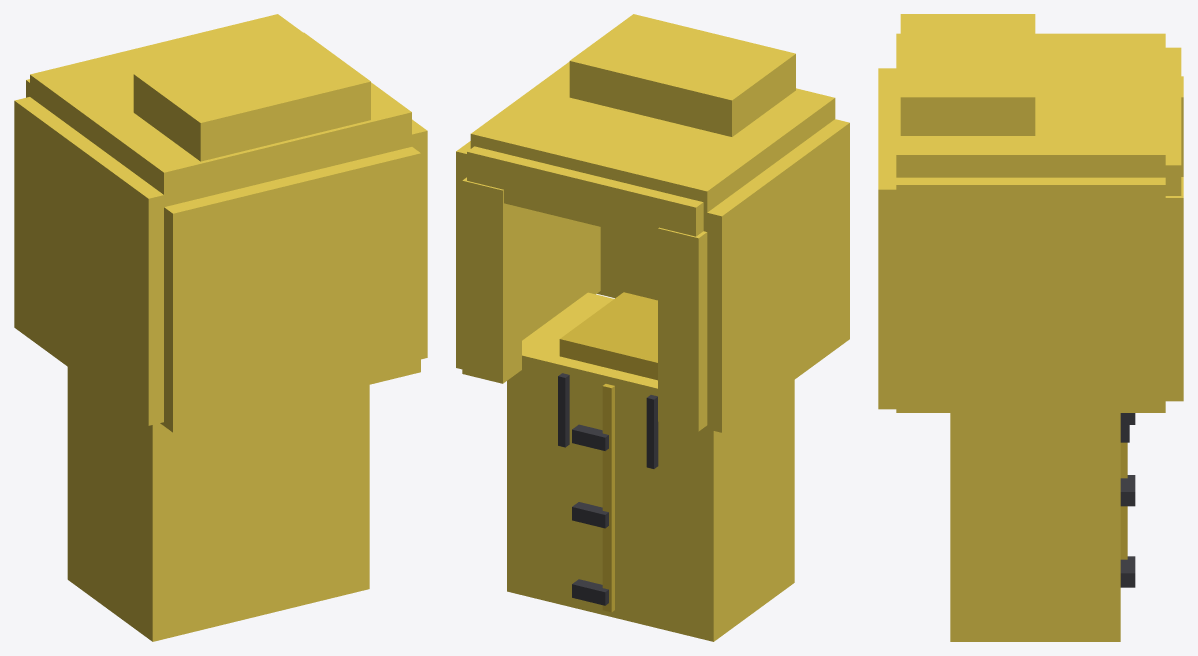
The model's file is capa_chuva_tronco.glb.
3 renders of one model, left to right at view 1: azimuth 30°, elevation 25°; view 2: azimuth 150°, elevation 25°; view 3: azimuth 270°, elevation 25°, orthographic. The views are drawn at different scales.
Visible parts, largest first — view 1: capa_chuva_tronco; view 2: capa_chuva_tronco; view 3: capa_chuva_tronco.
Boxes of the visible parts, x1,y1,x2,y2 form: capa_chuva_tronco: (14,14,427,641); capa_chuva_tronco: (456,14,849,641); capa_chuva_tronco: (878,14,1183,641).
Bounding box in the file's own units: 0.72 × 1.31 × 0.68.
